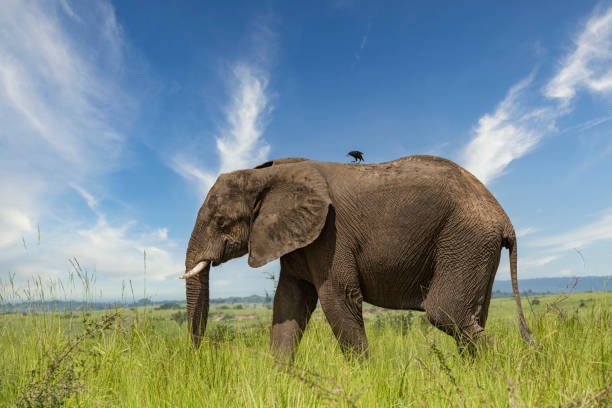africanelephant: (172, 159, 334, 327)
